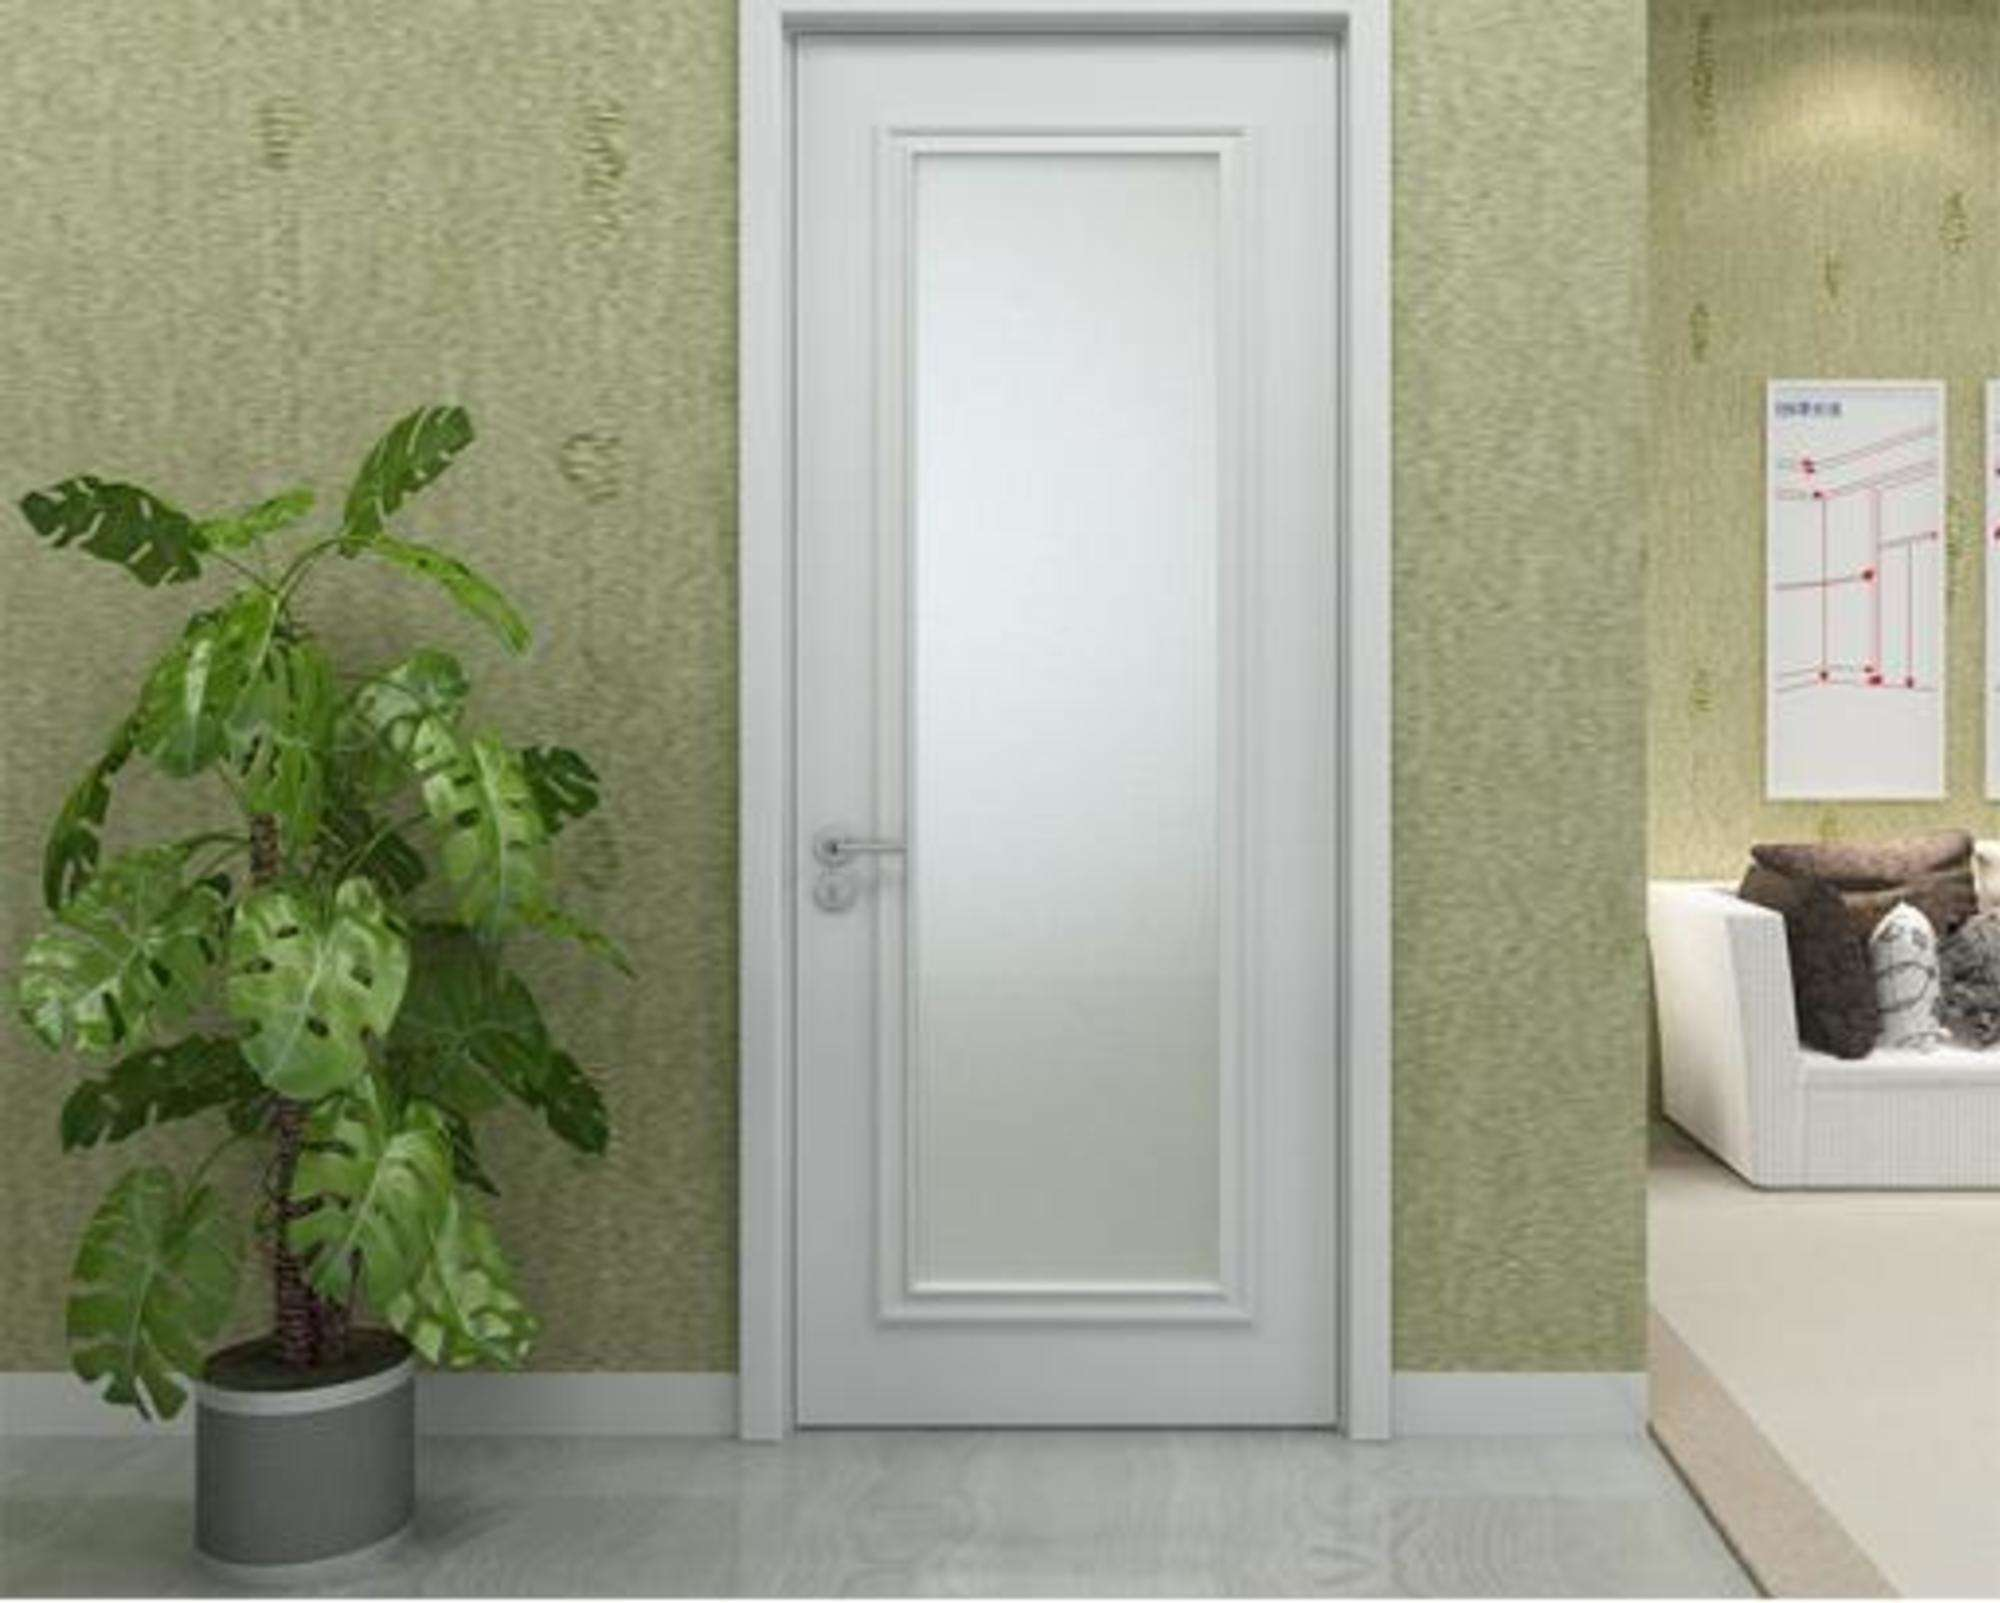door: (778, 28, 1362, 1449)
